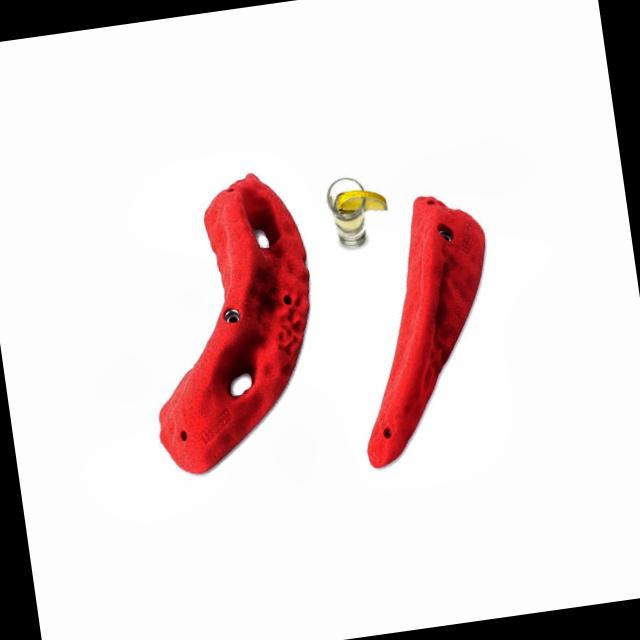Hold: (116, 163, 334, 490), (329, 186, 522, 479)
